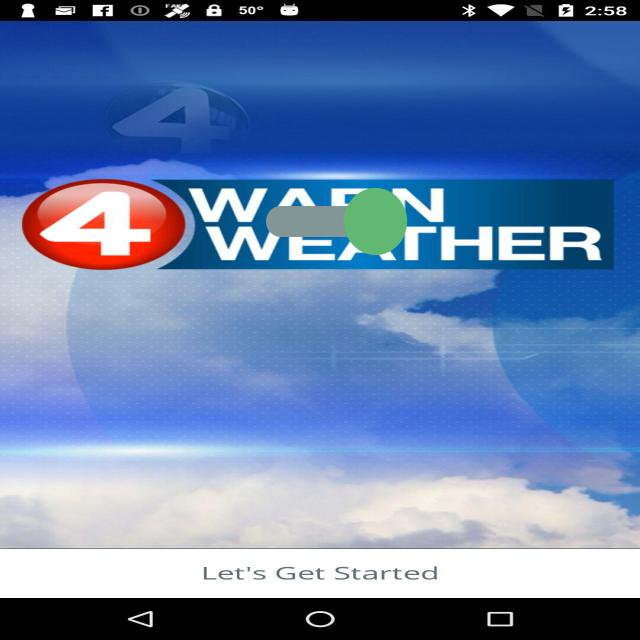social proof: (266, 147, 407, 296)
